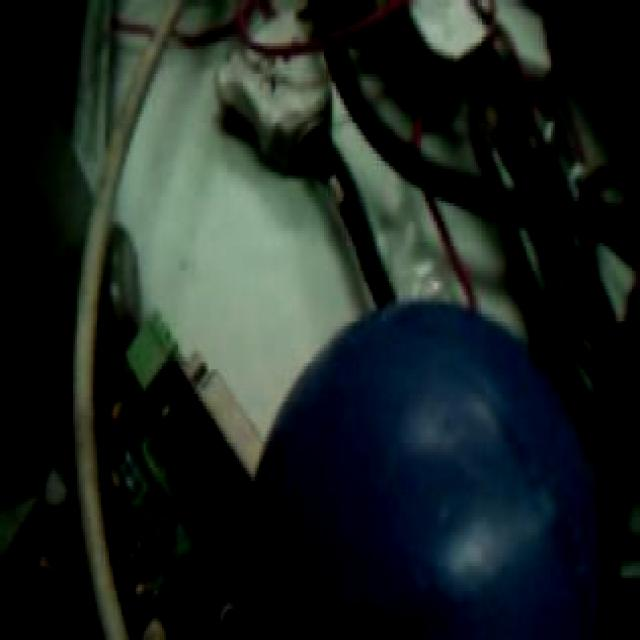BallPurple: (250, 303, 601, 640)
